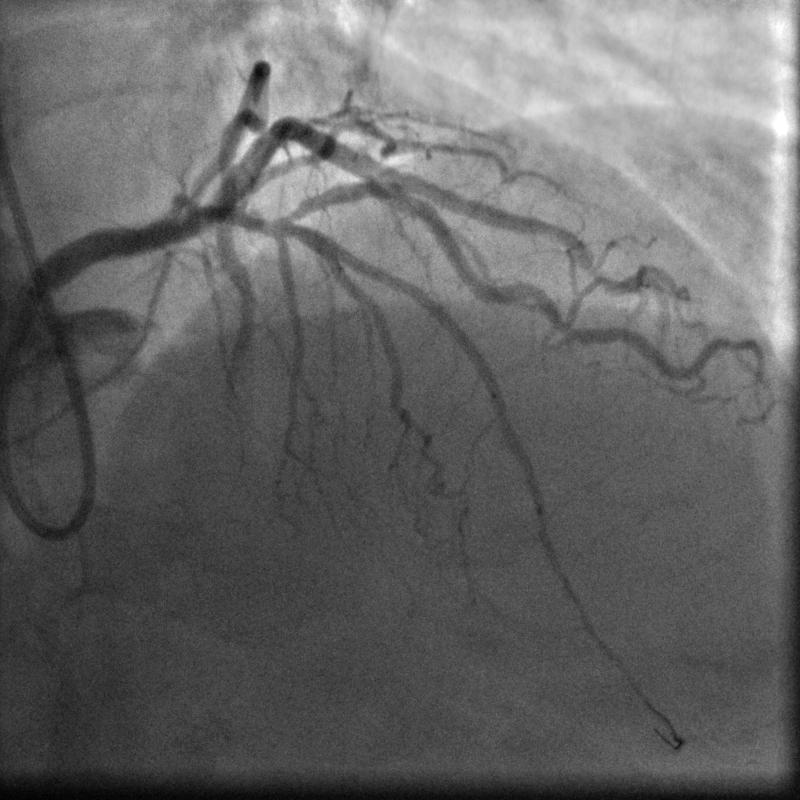Stenosis: (383, 177, 431, 222)
